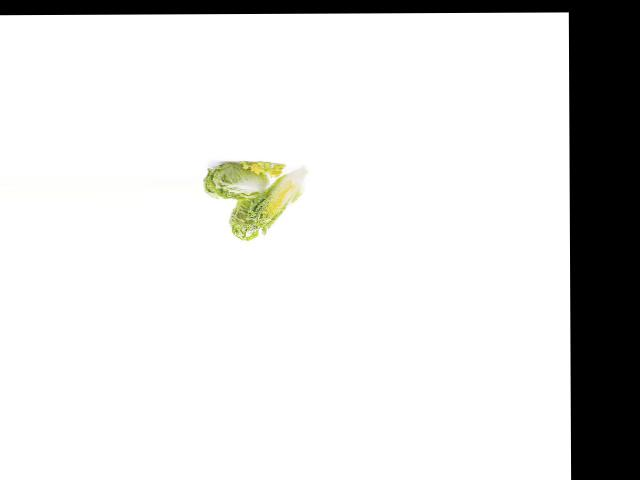lettuce: (205, 158, 277, 202)
